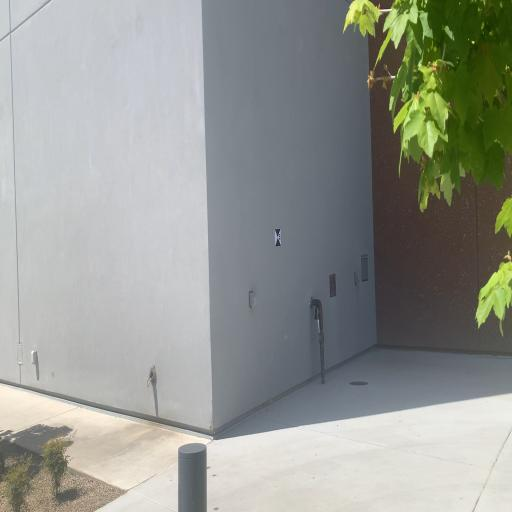target5: (275, 228, 281, 247)
